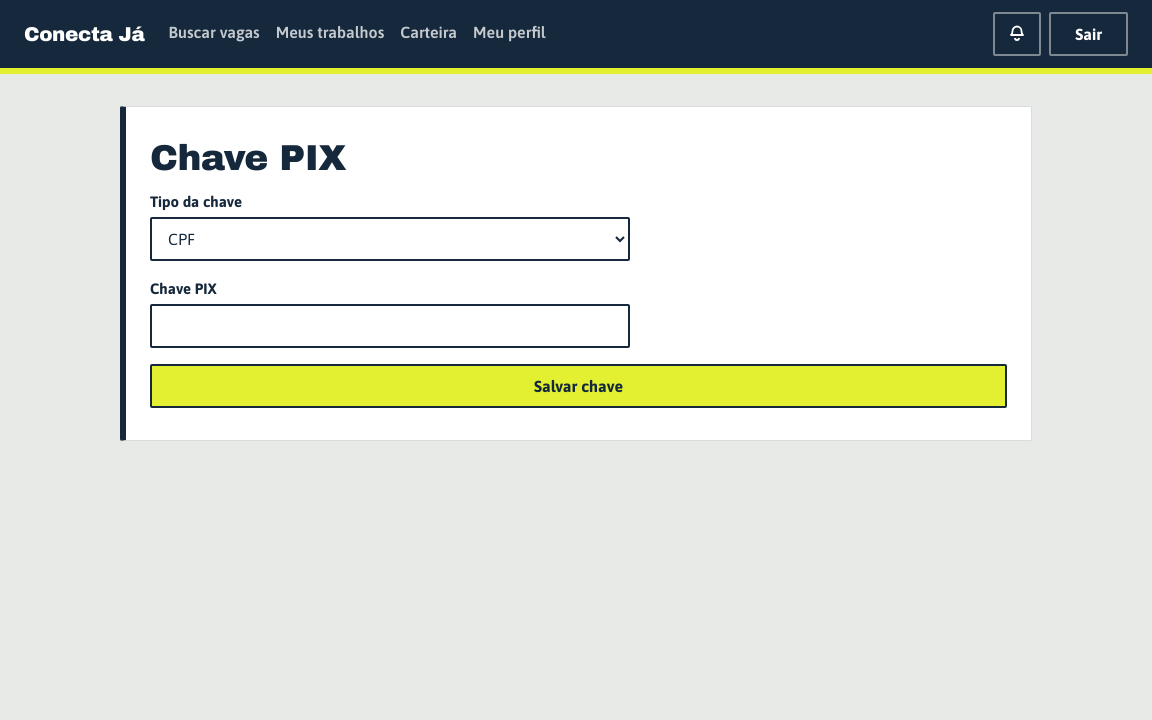
Test: Chave PIX › mostra o erro de titularidade do CPF
Type "52998224725" into the field labelled "Chave PIX" at (390, 326), box [150,304,630,348]
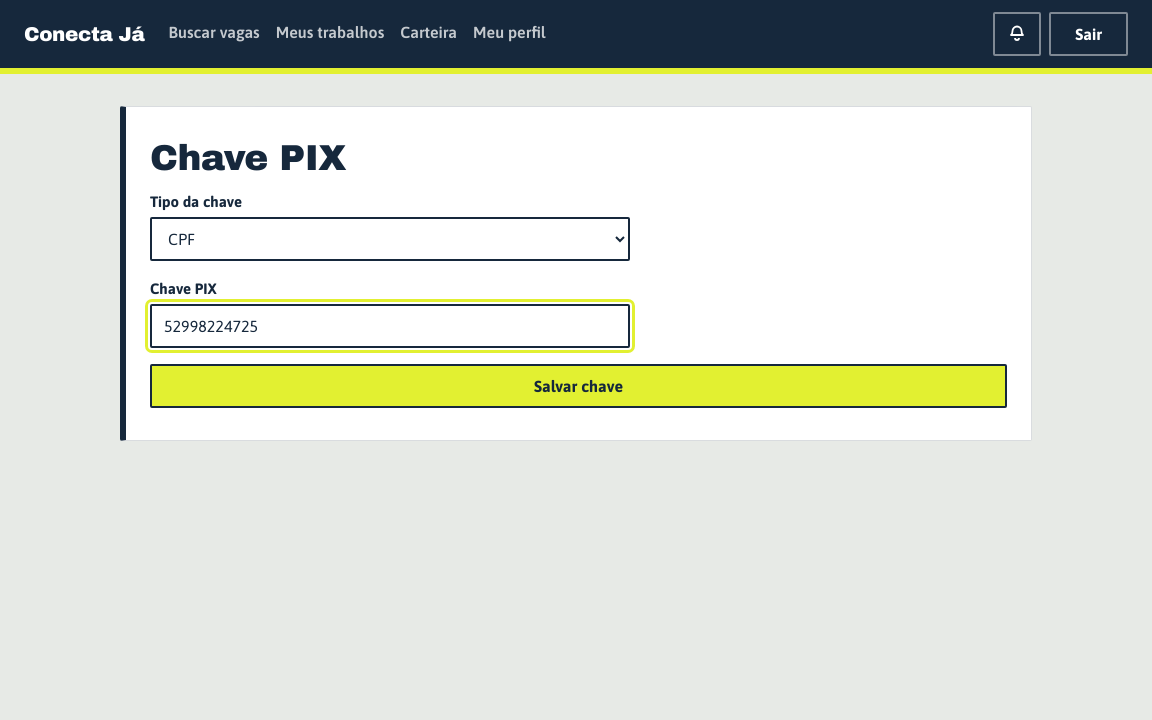
Click the button "Salvar chave" at (578, 386), box [150,364,1007,408]
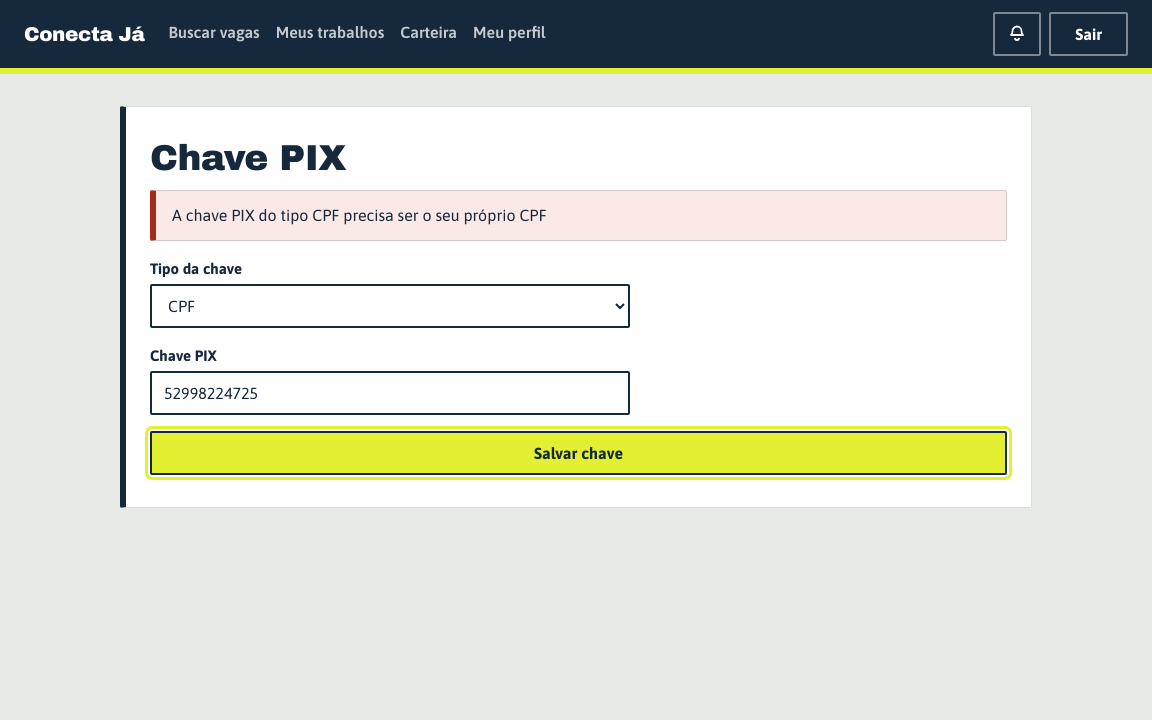
expect the message reads "A chave PIX do tipo CPF precisa ser o seu próprio CPF": met, box [172,206,546,224]
